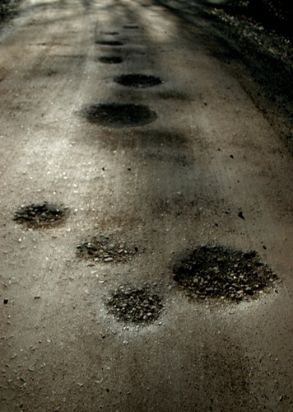pothole: (166, 235, 281, 306), (80, 99, 163, 133), (8, 198, 72, 231), (111, 70, 167, 91)
